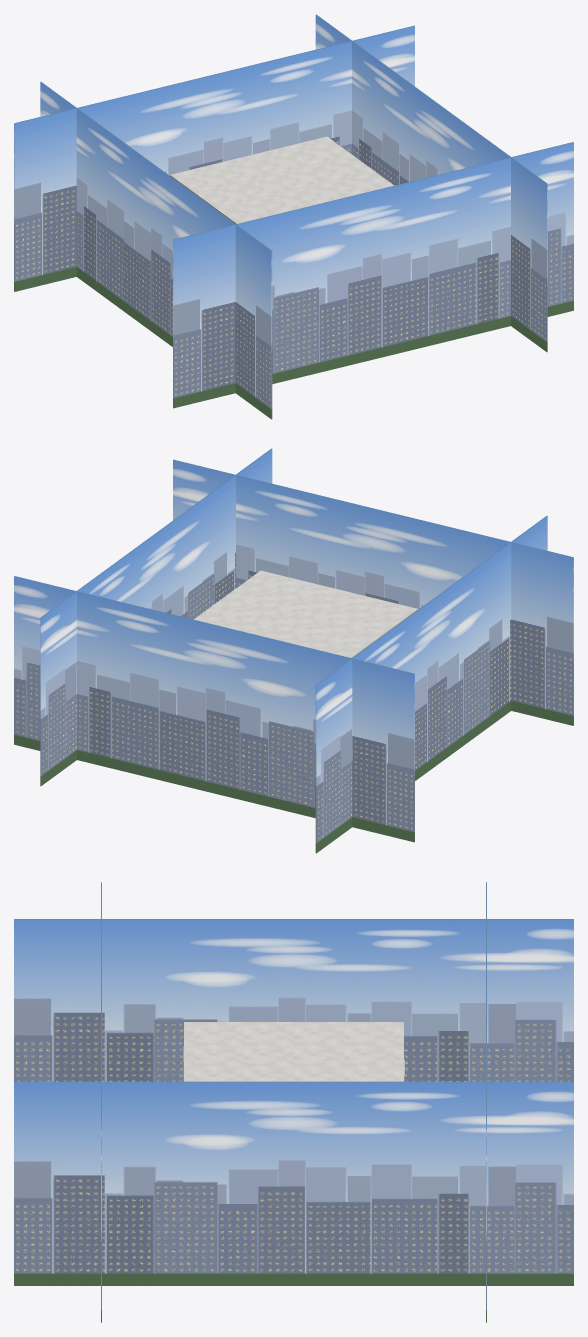
The model's file is interior.glb.
3 renders of one model, top to bottom at view 1: azimuth 30°, elevation 25°; view 2: azimuth 150°, elevation 25°; view 3: azimuth 270°, elevation 25°, orthographic. The views are drawn at different scales.
Parts seen in each view (by area): view 1: Sky_Front, Sky_Back, Sky_West, Sky_East, Ceiling; view 2: Sky_Back, Sky_Front, Sky_West, Sky_East, Ceiling; view 3: Sky_East, Sky_West, Ceiling.
Boxes of the visible parts, x1,y1,x2,y2 form: Sky_Front: [173, 142, 573, 408]; Sky_Back: [14, 25, 414, 291]; Sky_West: [40, 81, 272, 419]; Sky_East: [315, 14, 547, 352]; Ceiling: [170, 136, 393, 223]; Sky_Back: [14, 576, 414, 842]; Sky_Front: [173, 459, 573, 725]; Sky_West: [315, 515, 547, 853]; Sky_East: [40, 448, 272, 786]; Ceiling: [194, 570, 417, 657]; Sky_East: [14, 1081, 573, 1285]; Sky_West: [14, 919, 573, 1081]; Ceiling: [184, 1022, 403, 1081].
Bounding box in the file's own units: 22.4 × 9 × 22.4.
Materials: 20 (20 with a texture image).
